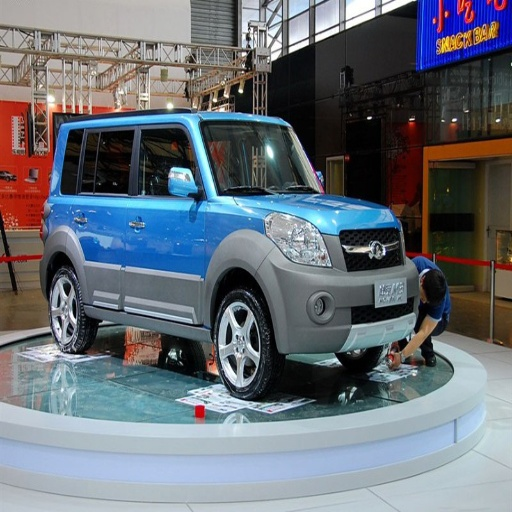front_bumper: (262, 227, 430, 368)
front_right_door: (124, 124, 206, 319)
front_right_light: (268, 215, 333, 269)
